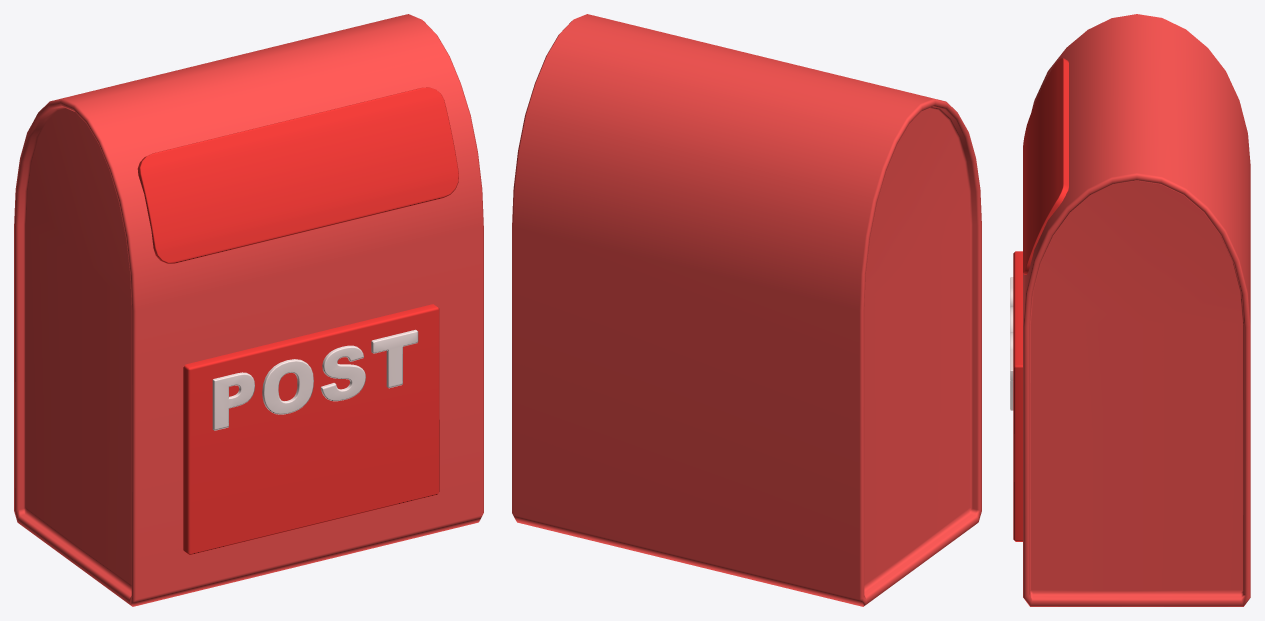
Rendered from City_17_Mailbox_1.glb.
3 views of the same model, side by side, from view 1: azimuth 30°, elevation 25°; view 2: azimuth 150°, elevation 25°; view 3: azimuth 270°, elevation 25° (orthographic). The views are drawn at different scales.
Visible parts, largest first — view 1: City_17_Mailbox_1; view 2: City_17_Mailbox_1; view 3: City_17_Mailbox_1.
Part boxes in pixels (<box>): City_17_Mailbox_1: <box>14,14,483,606</box>; City_17_Mailbox_1: <box>512,14,981,606</box>; City_17_Mailbox_1: <box>1010,14,1250,606</box>.
Bounding box in the file's own units: 0.6183 × 0.778 × 0.3908.
Materials: 1 (1 with a texture image).
